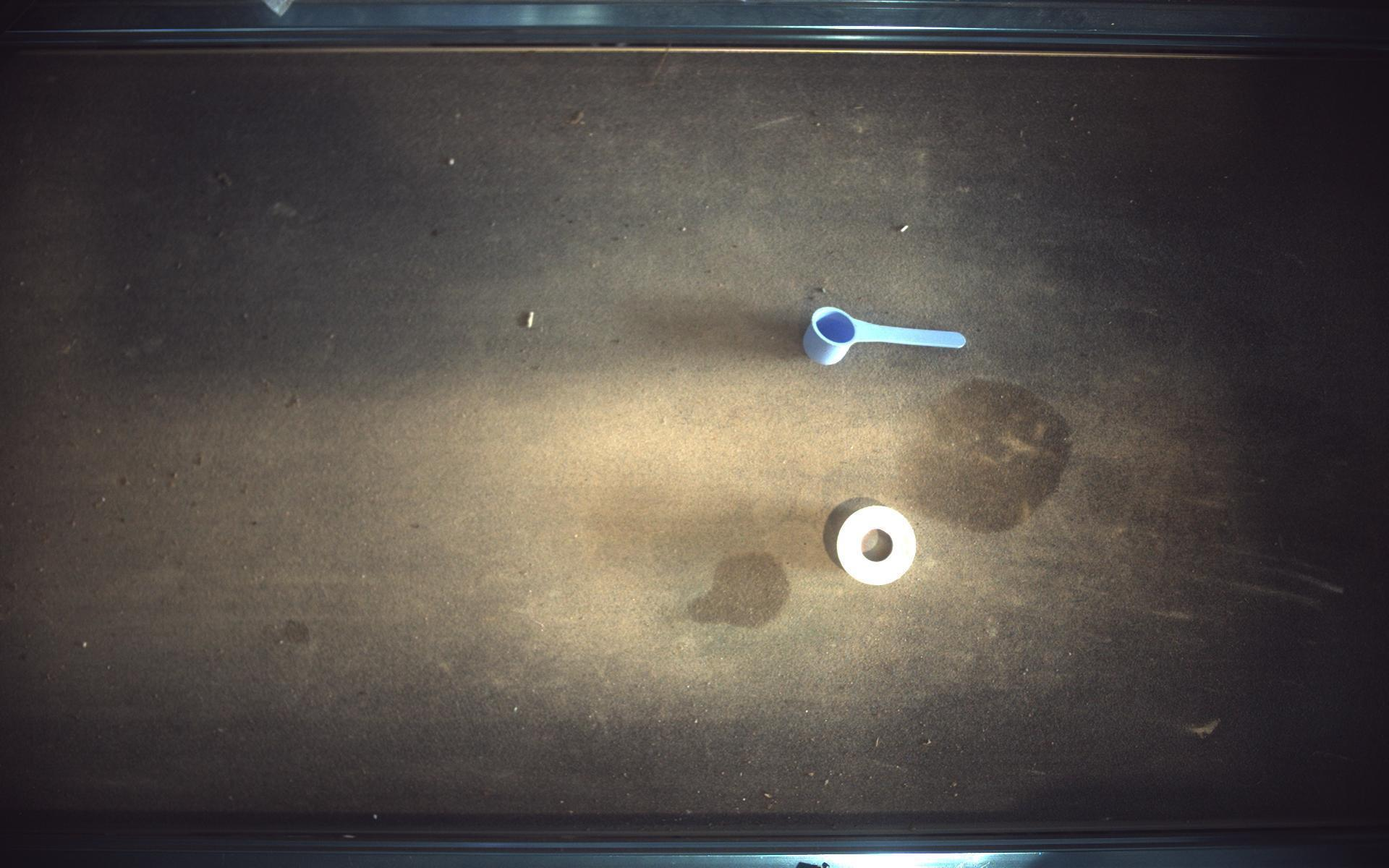general_w: (804, 307, 968, 365), (825, 499, 918, 587)
